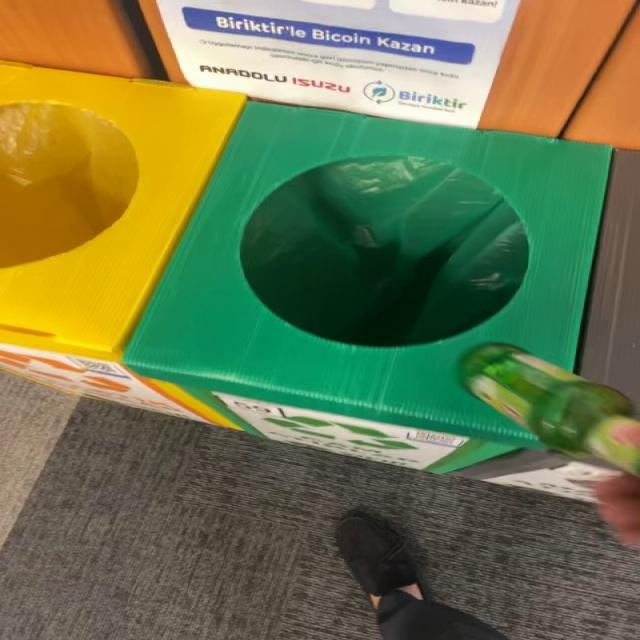glass: (460, 344, 640, 476)
